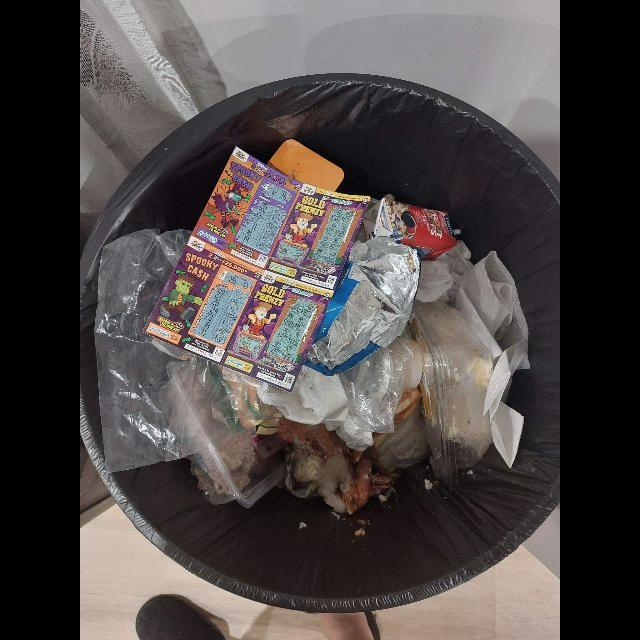cardboard: (143, 148, 370, 392)
food_wrapper: (304, 236, 421, 377)
paper: (456, 251, 530, 469)
plastic_bag: (94, 229, 242, 472)
plastic_container: (411, 300, 493, 489)
